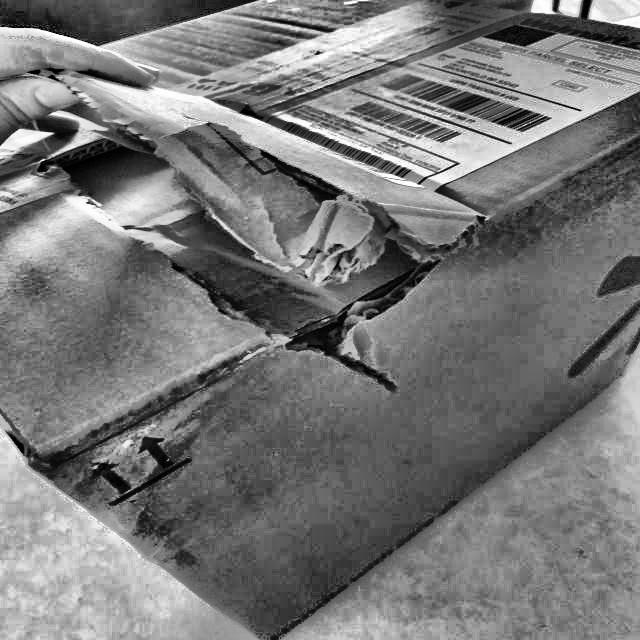box: (0, 0, 639, 639)
hole: (81, 138, 451, 348)
